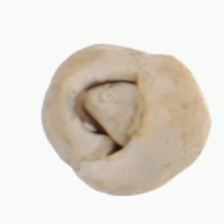L3: (69, 71, 148, 159)
L4: (41, 43, 212, 195)
